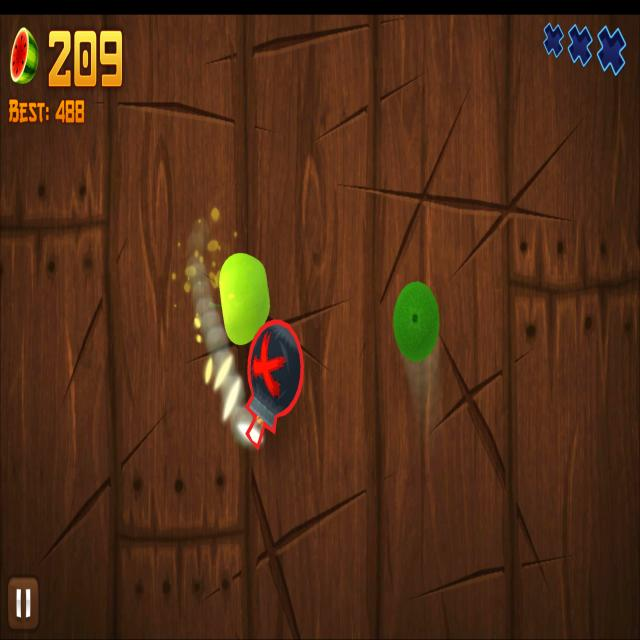bomb: (245, 319, 305, 452)
fruit: (218, 251, 270, 346), (392, 281, 440, 363)
